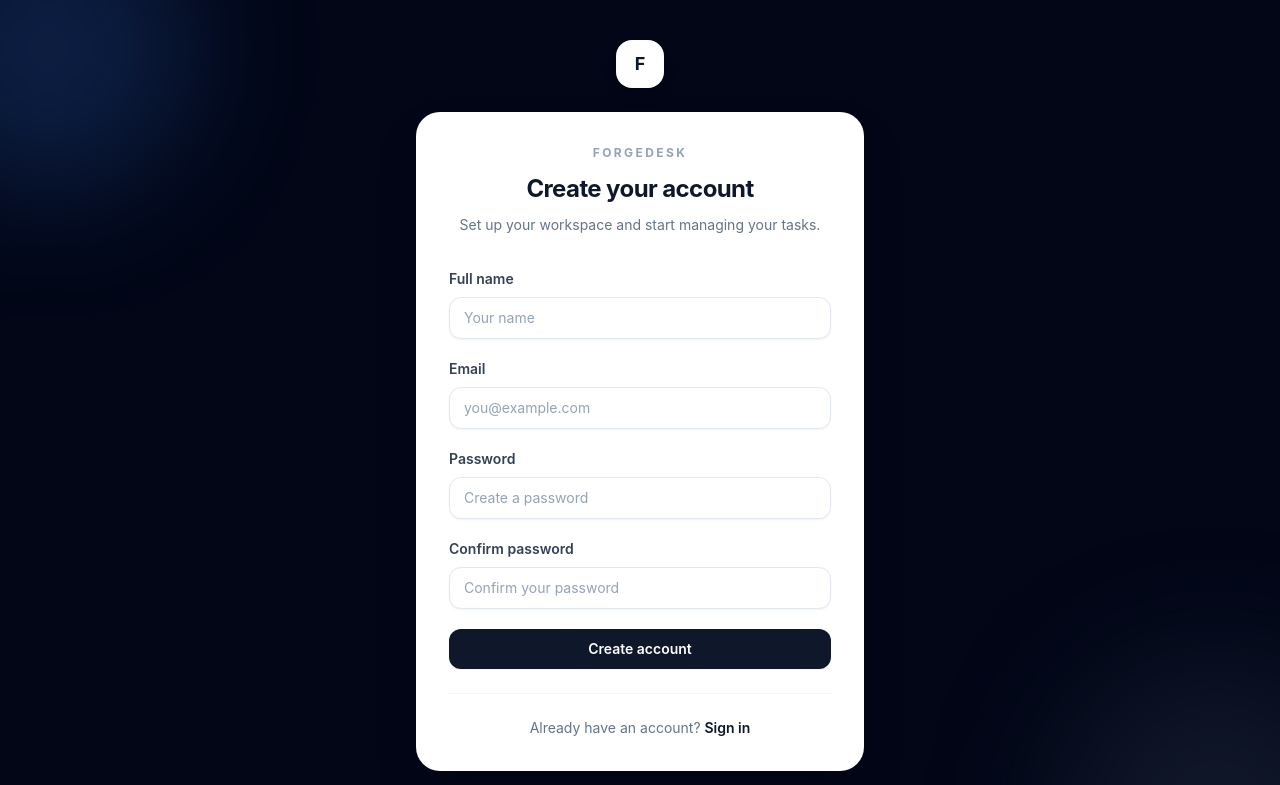
it: Register › shows an error when passwords do not match
In the field labelled "Full name": (640, 318) 449,297 -> 831,339, type "Test User"
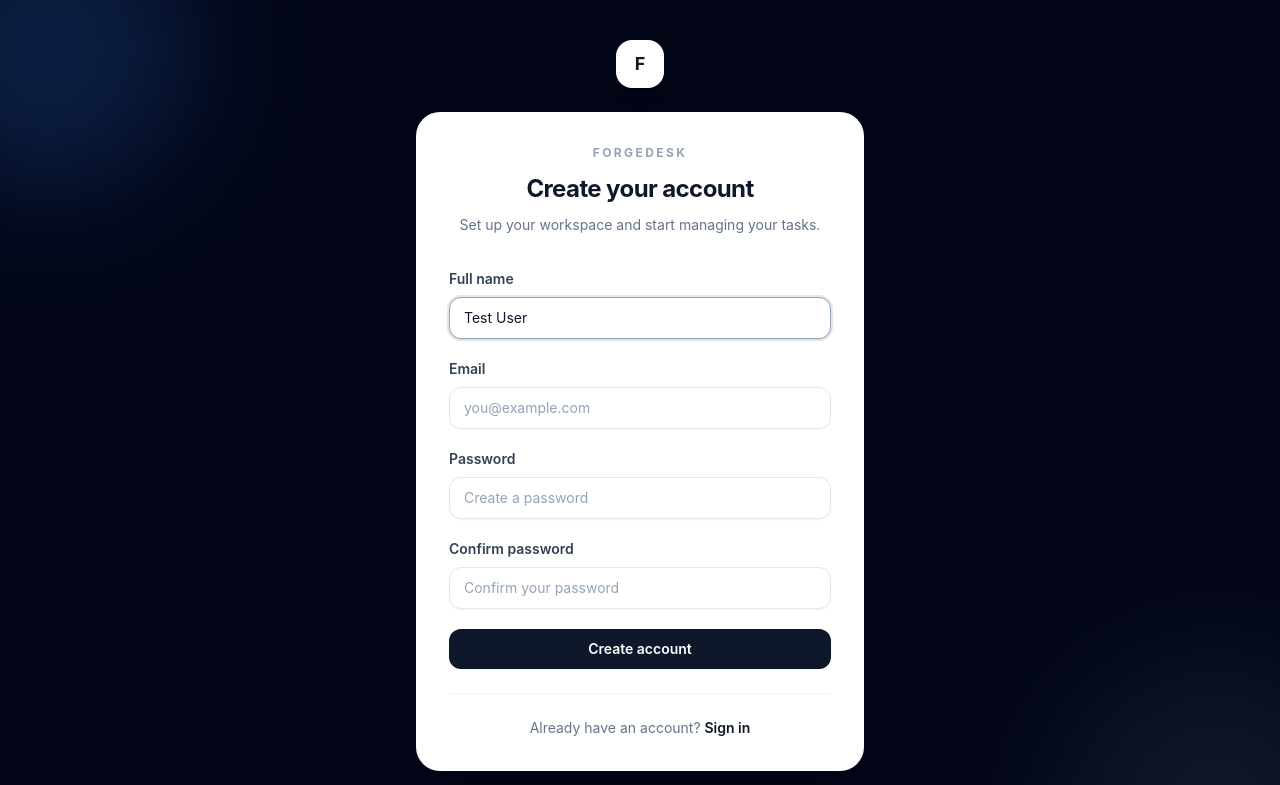
In the field labelled "Email": (640, 408) 449,387 -> 831,429, type "test@example.com"
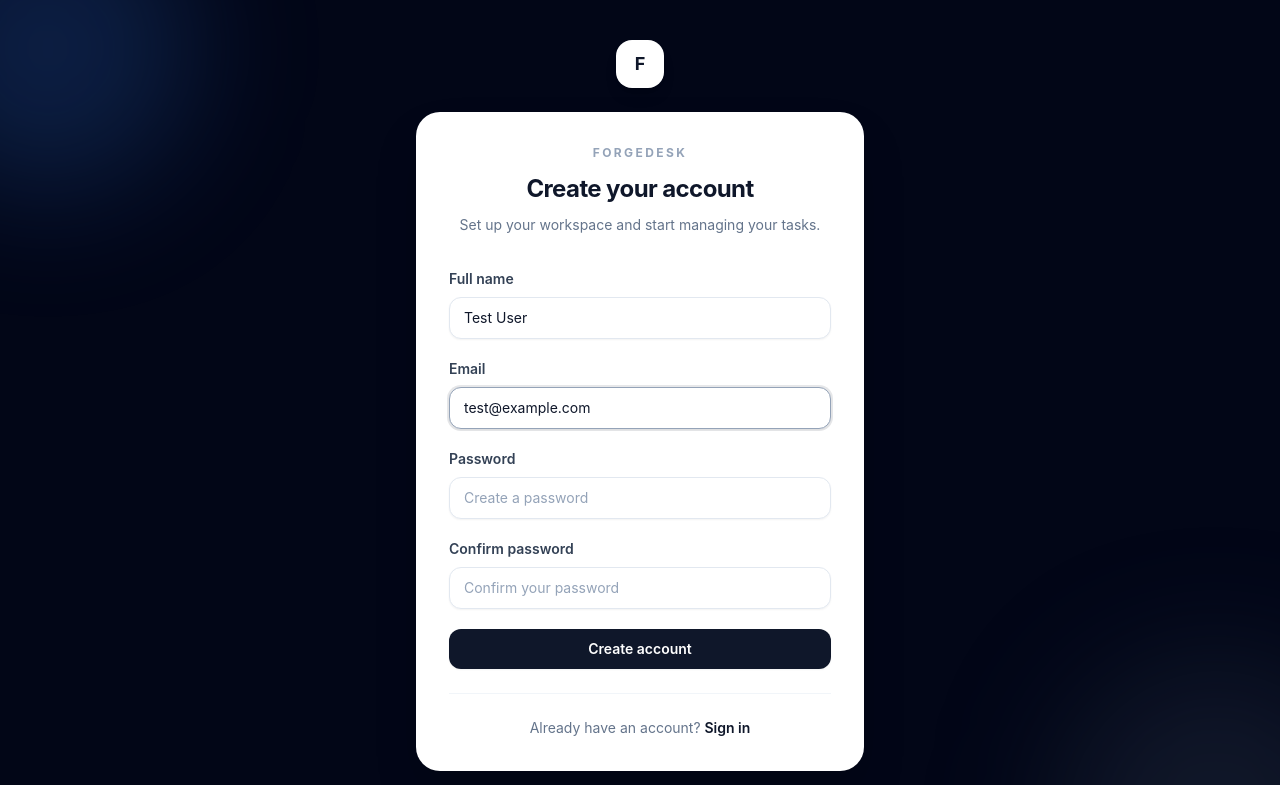
In the password field labelled "Password": (640, 498) 449,477 -> 831,519, type "TestPassword123"
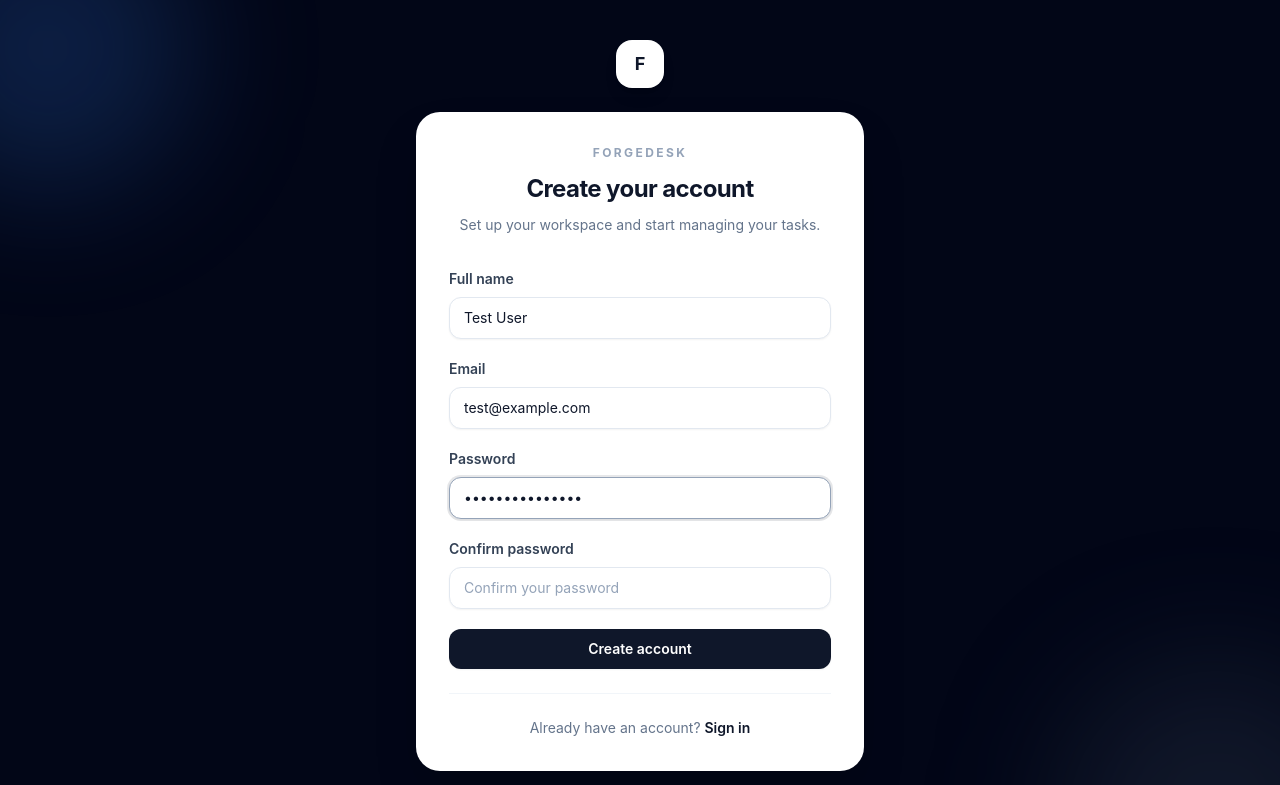
In the password field labelled "Confirm password": (640, 588) 449,567 -> 831,609, type "DifferentPassword123"
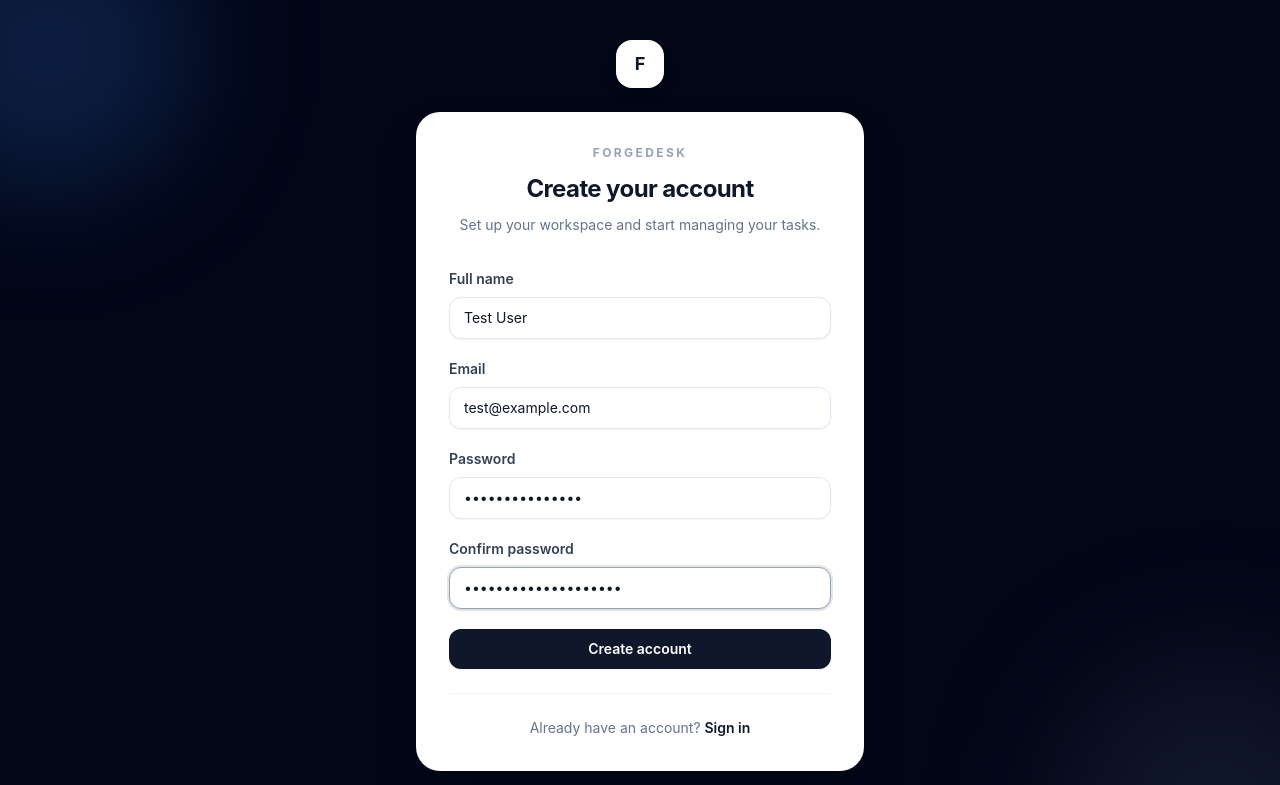
Click the button "Create account": click(640, 649) 449,629 -> 831,669
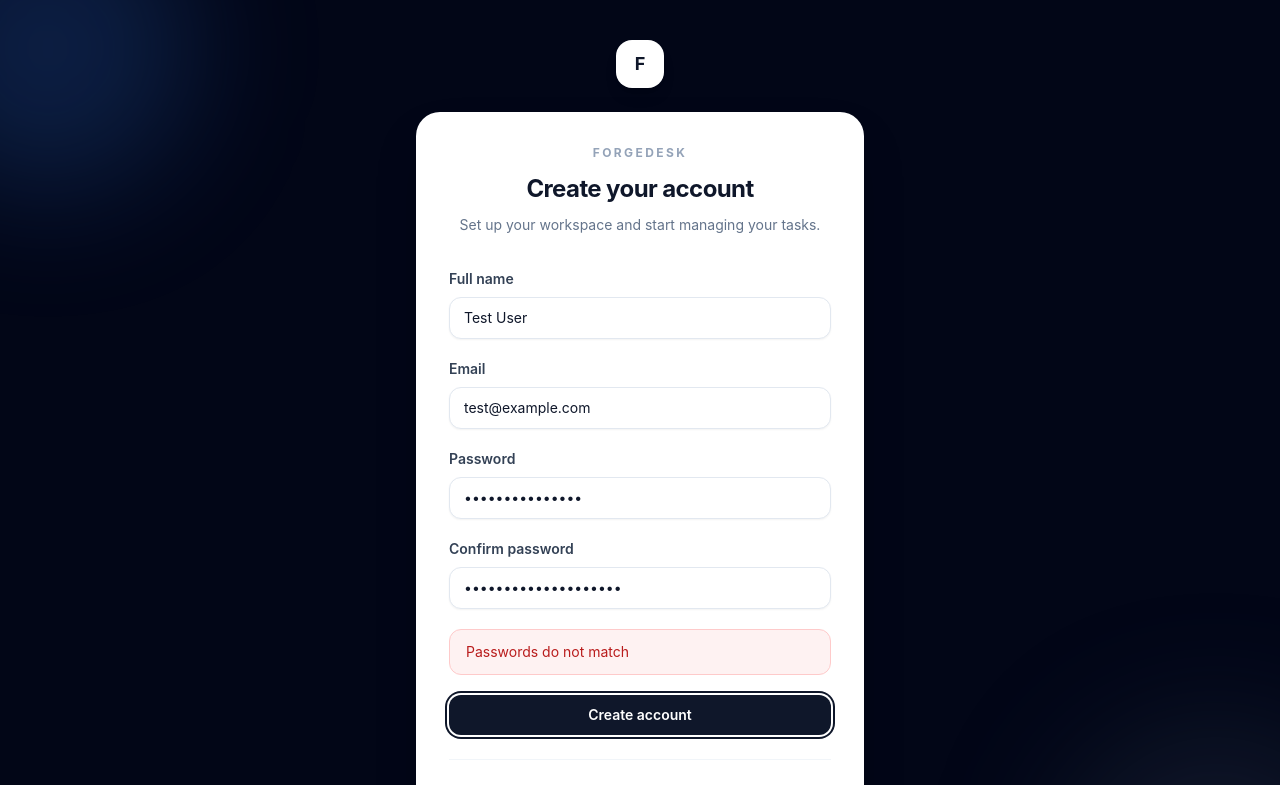
Result: the text "Passwords do not match" is shown at 449,629 -> 831,675
